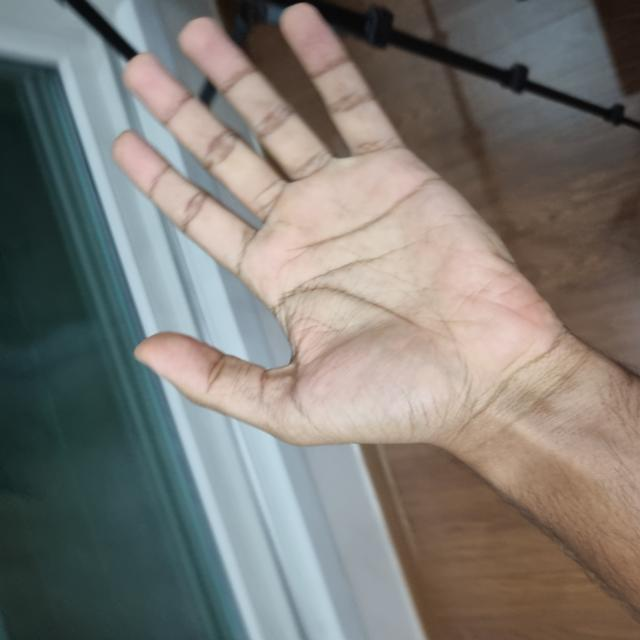Paper: (188, 125, 633, 552)
